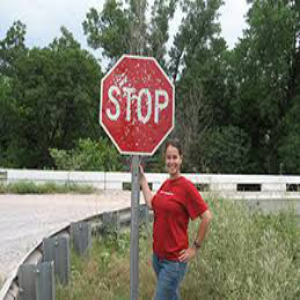STOP_SIGN: (99, 54, 174, 154)
